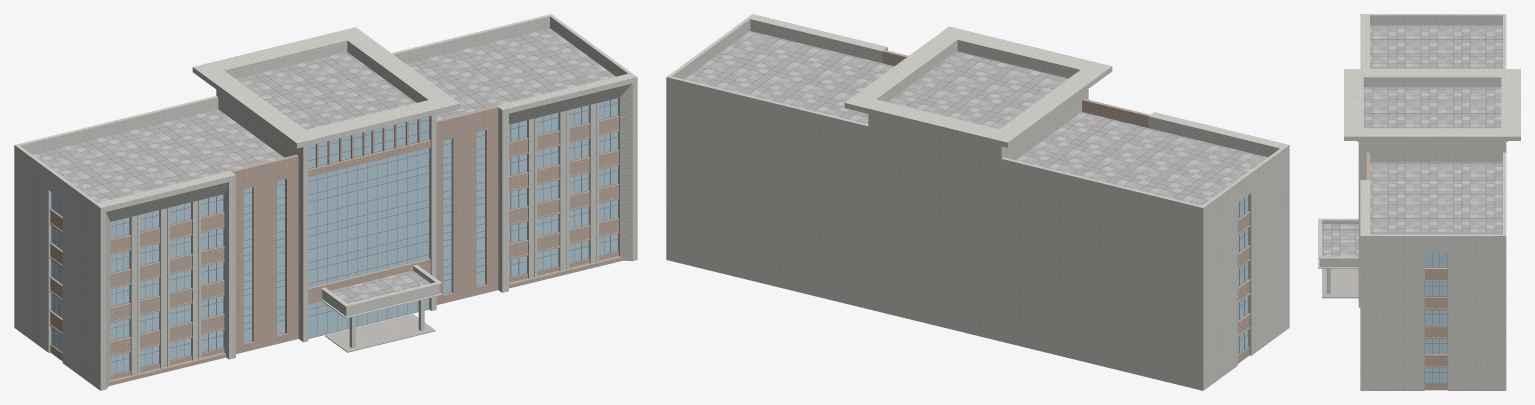
The model's file is 办公楼04.gltf.
3 views of the same model, side by side, from view 1: azimuth 30°, elevation 25°; view 2: azimuth 150°, elevation 25°; view 3: azimuth 270°, elevation 25° (orthographic). The views are drawn at different scales.
Parts seen in each view (by area): view 1: 办公楼04; view 2: 办公楼04; view 3: 办公楼04.
Boxes of the visible parts, x1=… form: 办公楼04: x1=14, y1=14, x2=637, y2=390; 办公楼04: x1=666, y1=14, x2=1289, y2=390; 办公楼04: x1=1318, y1=14, x2=1520, y2=390.
Bounding box in the file's own units: 64.5 × 24 × 24.91.
6 materials, 4 textured.
